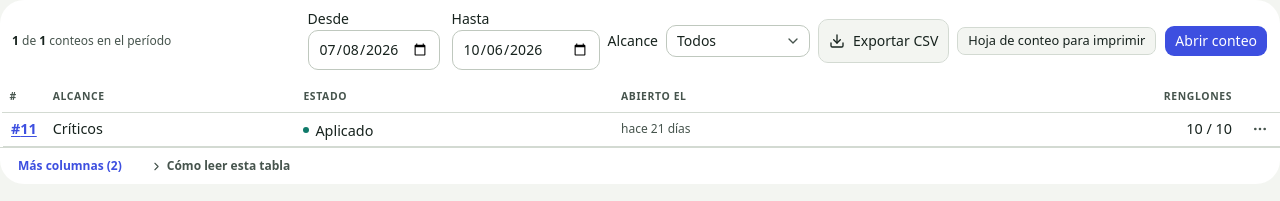
Test: CountsTab › un conteo aplicado muestra quién y cuándo, sin «(parcial)»
The width and height of the screenshot is (1280, 201).
Expected: the link "#11" is shown, [11,119,37,138]
Expected: the text "Aplicado" is shown, [303,120,373,141]
Step 1. Click the button "Más columnas (2)" → (70, 166), box [12,154,128,178]
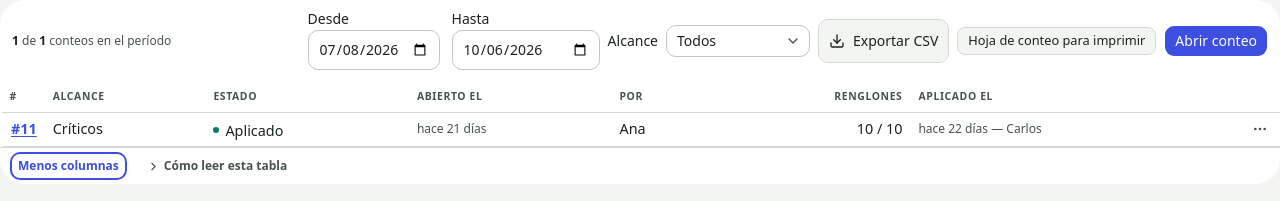
Expected: the text "hace 22 días — Carlos" is shown, [918,120,1042,137]
